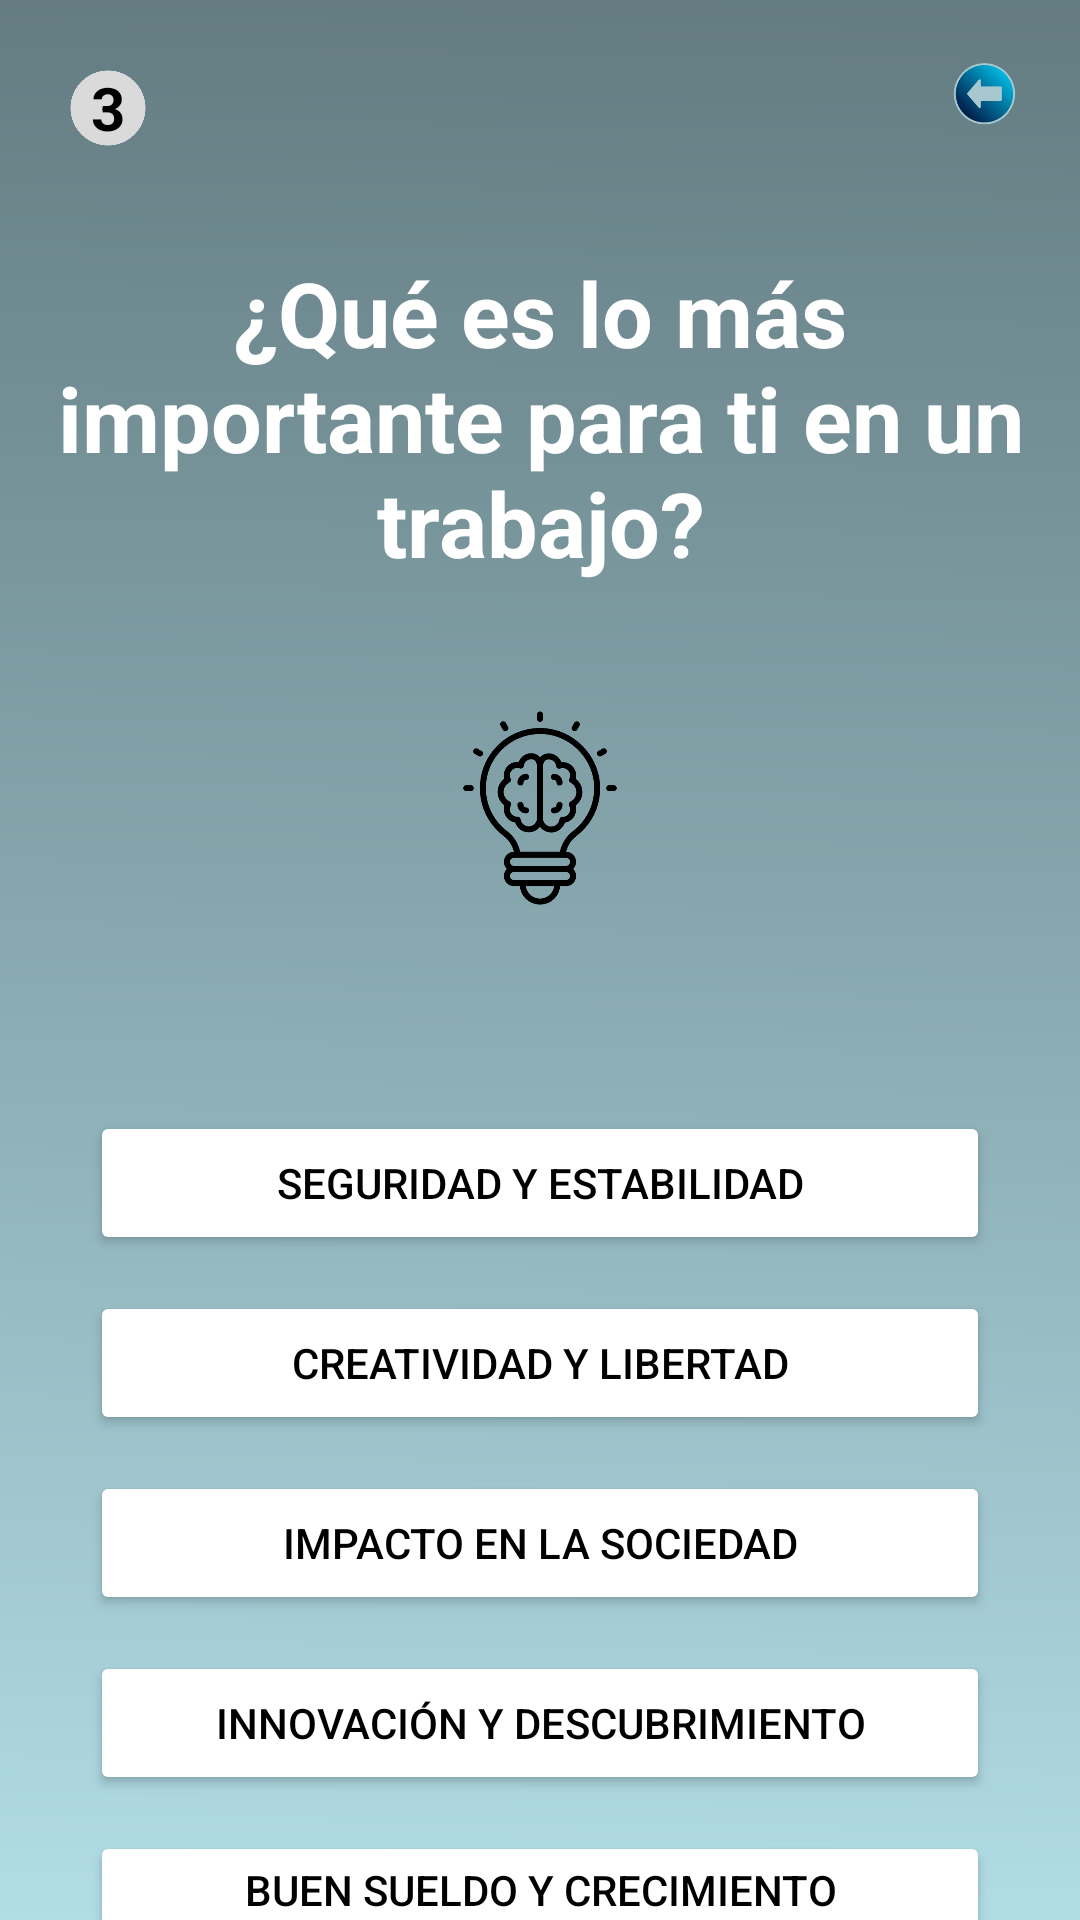

Named icons in this screenshot (1080w x 1920h) and their bounding boxes, (x1, y1, x2, y2):
idea: (463, 711, 617, 905)
retroceso: (954, 63, 1015, 124)
